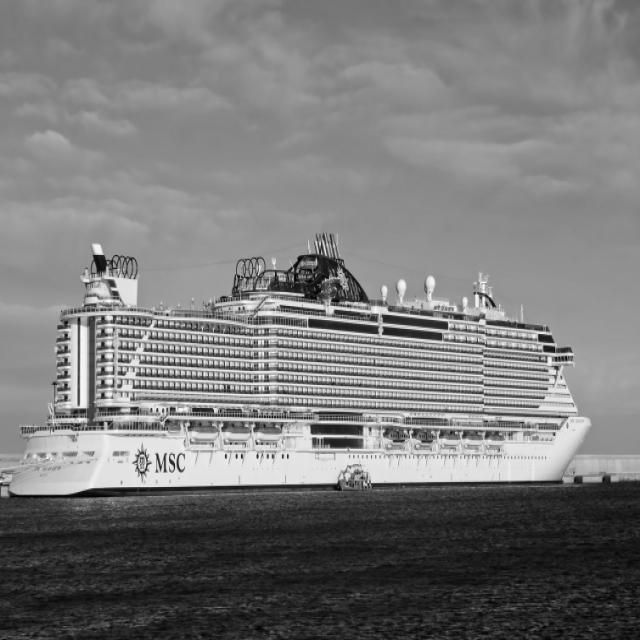cruises: (7, 209, 599, 501)
